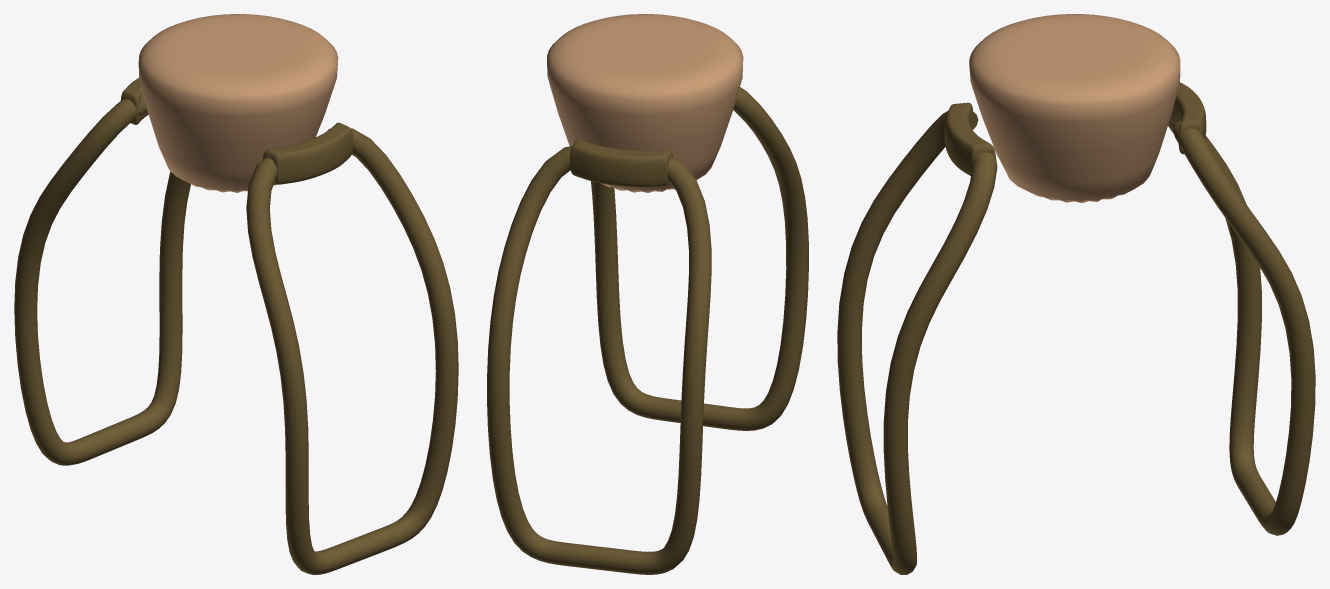
The model's file is market-bottle3.fbx.
3 views of the same model, side by side, from view 1: azimuth 30°, elevation 25°; view 2: azimuth 150°, elevation 25°; view 3: azimuth 270°, elevation 25° (orthographic). The views are drawn at different scales.
Visible parts, largest first — view 1: Plane.091; view 2: Plane.091; view 3: Plane.091.
Part boxes in pixels (left/top/right/bottom): Plane.091: left=14, top=14, right=458, bottom=574; Plane.091: left=487, top=14, right=808, bottom=574; Plane.091: left=837, top=14, right=1315, bottom=574.
Size of the model in its own units: 44.46 by 70.48 by 63.45.
